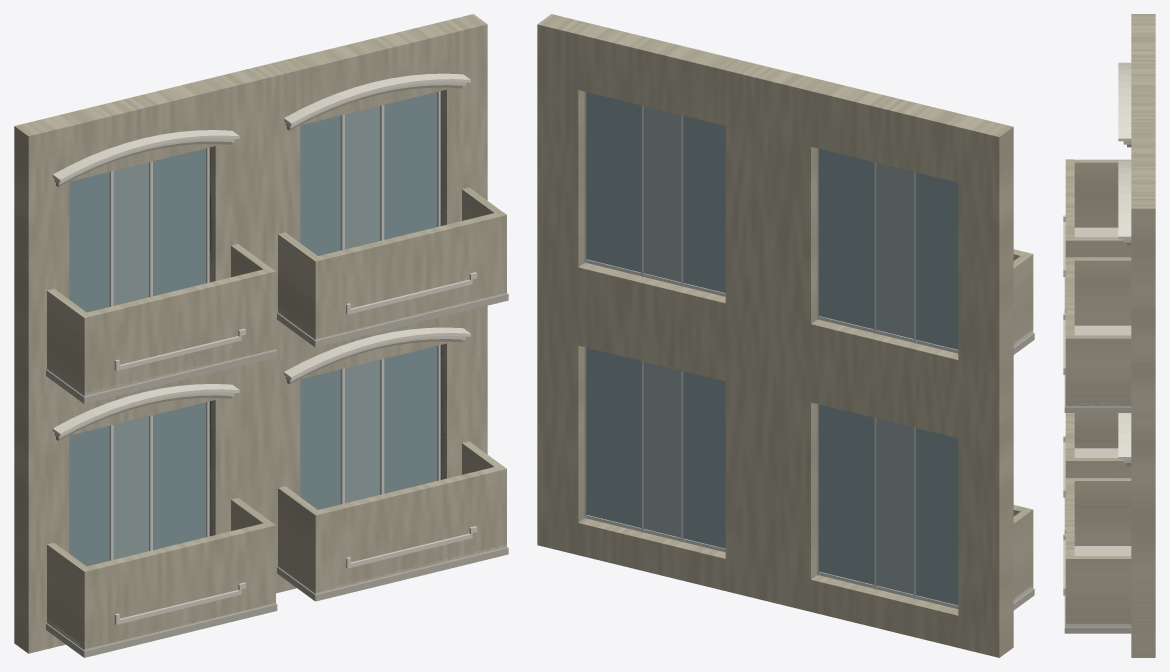
Rendered from dafang-hotel-segmental-window-balconies-far.glb.
3 renders of one model, left to right at view 1: azimuth 30°, elevation 25°; view 2: azimuth 150°, elevation 25°; view 3: azimuth 270°, elevation 25°, orthographic. The views are drawn at different scales.
Visible parts, largest first — view 1: 大方饭店福建南路弧形窗楣与悬挑栏板; view 2: 大方饭店福建南路弧形窗楣与悬挑栏板; view 3: 大方饭店福建南路弧形窗楣与悬挑栏板.
Part boxes in pixels (x1,y1,x2,y2): 大方饭店福建南路弧形窗楣与悬挑栏板: (14, 14, 508, 657); 大方饭店福建南路弧形窗楣与悬挑栏板: (537, 14, 1034, 657); 大方饭店福建南路弧形窗楣与悬挑栏板: (1063, 14, 1155, 657).
Bounding box in the file's own units: 6 × 6.46 × 1.21.
10 materials, 1 textured.
